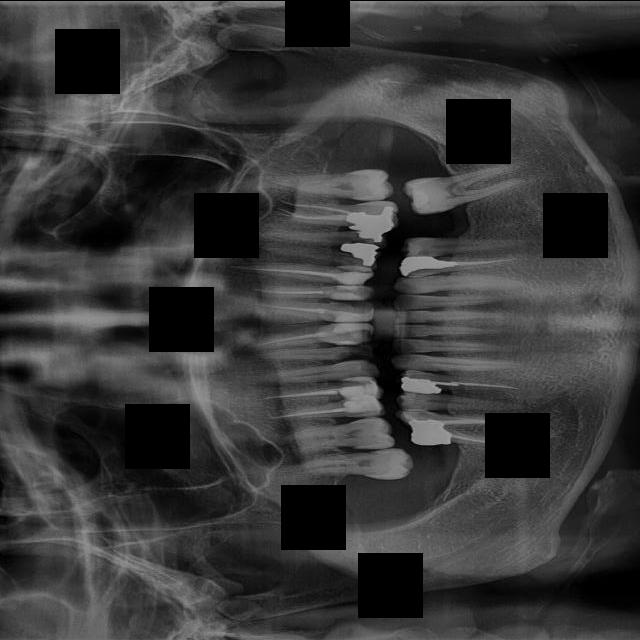71: (419, 378, 461, 385)
74: (232, 262, 334, 277), (276, 197, 354, 215), (268, 406, 343, 422), (275, 207, 346, 222), (260, 386, 339, 399), (254, 331, 323, 345), (255, 303, 325, 313), (450, 380, 519, 390), (451, 432, 493, 447), (438, 418, 514, 426), (456, 258, 516, 266), (253, 288, 324, 294)
NucleOSS Implant: (398, 247, 459, 276), (344, 205, 397, 237), (337, 233, 380, 268), (405, 418, 453, 446), (399, 375, 443, 395), (351, 228, 383, 243)
Sterngold Implant: (333, 350, 372, 359), (329, 244, 353, 256), (337, 343, 366, 350), (412, 249, 437, 255), (349, 238, 376, 243), (430, 207, 443, 212)
Straumann Implant: (315, 321, 373, 346), (319, 299, 373, 323), (342, 393, 383, 418), (332, 263, 374, 286), (322, 283, 375, 300), (336, 380, 380, 399)
